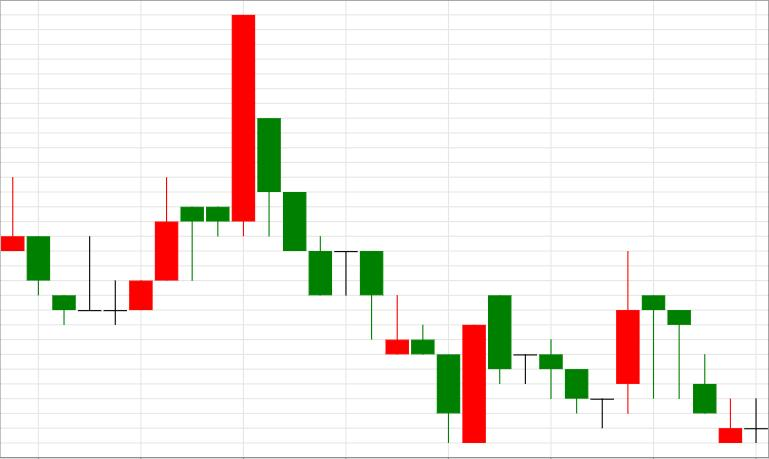bullish_engulfing_rise: (258, 117, 486, 443)
morning_star_rise: (488, 251, 640, 428)
three_black_crows_fall: (104, 14, 332, 326)
